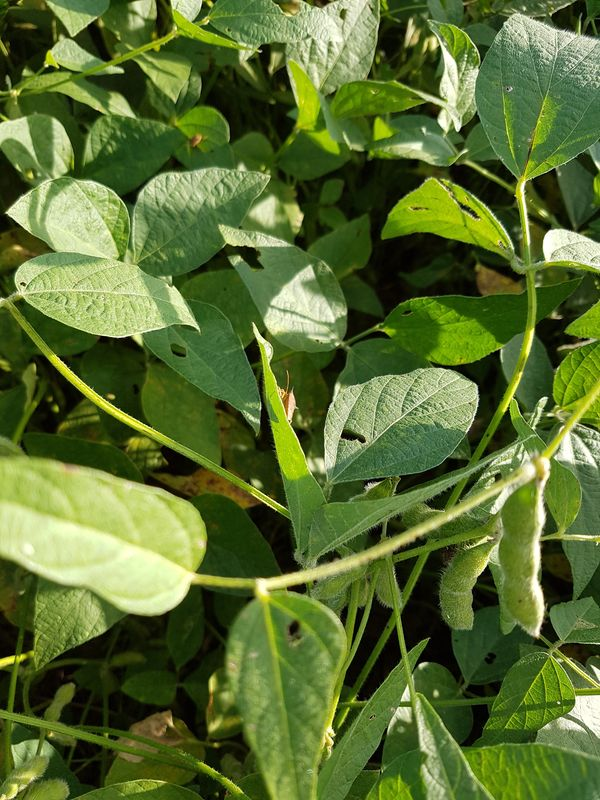Euschistus_heros_adulto: (269, 375, 311, 432)
